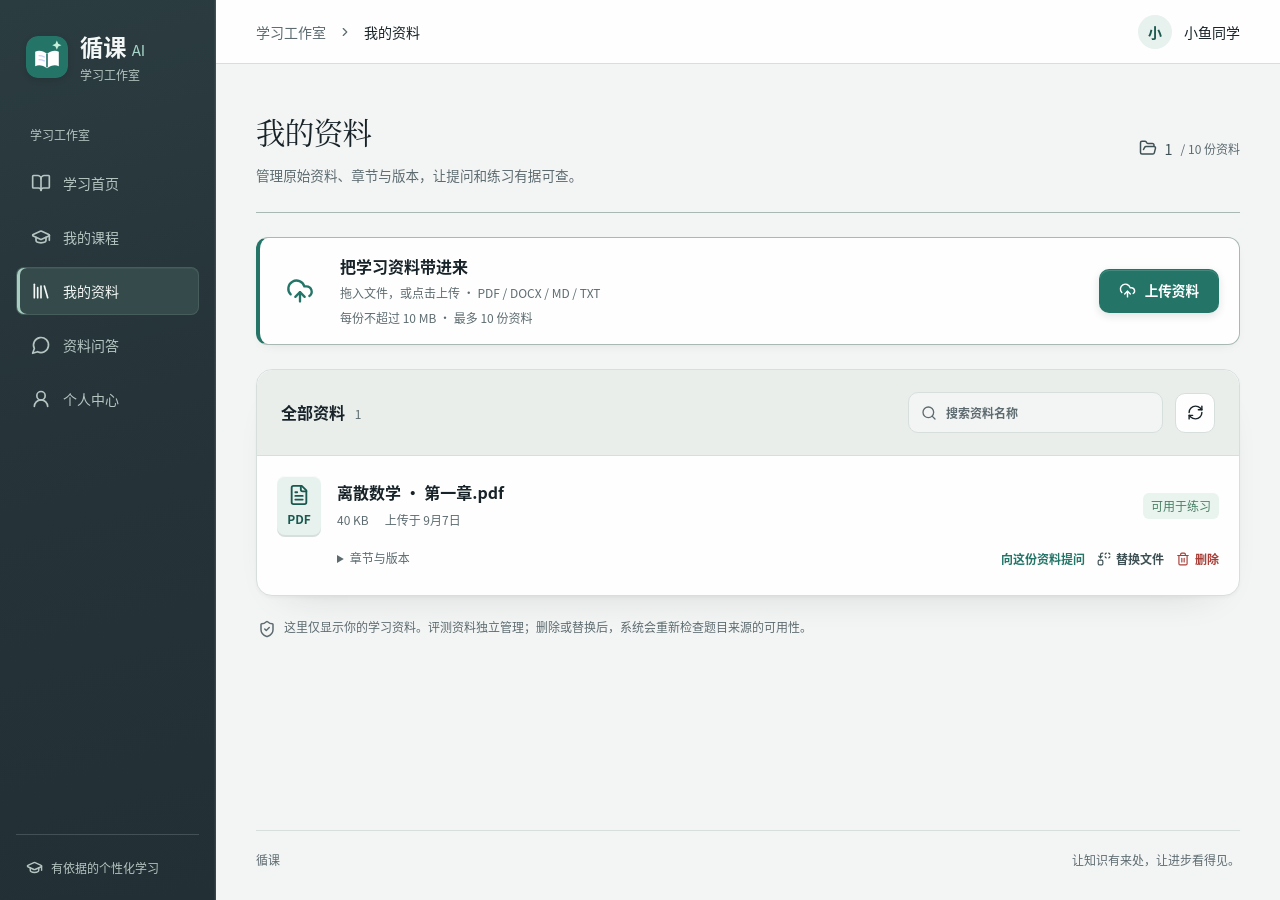
knowledge QA › opens ready document entry, keeps its selection, and creates a chapter-scoped session
Click the link "向这份资料提问".
click(1043, 558)  # box x1=1001 y1=550 x2=1085 y2=567
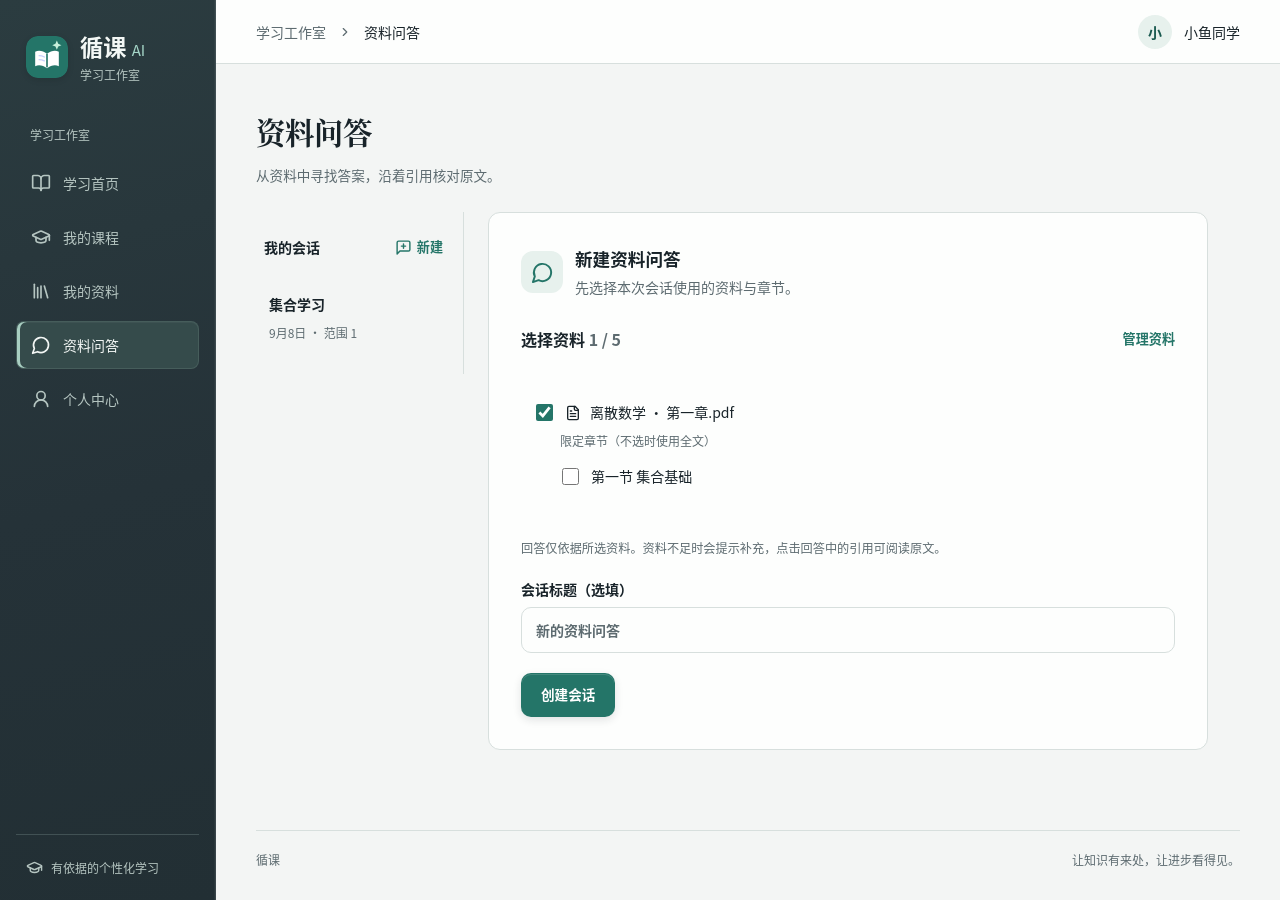
Check: the heading "新建资料问答" is shown, box x1=575 y1=246 x2=681 y2=271
Check: the checkbox labelled "离散数学 · 第一章.pdf" is checked, box x1=536 y1=404 x2=553 y2=421
Click the checkbox labelled "第一节 集合基础".
click(570, 477)  # box x1=562 y1=468 x2=579 y2=485
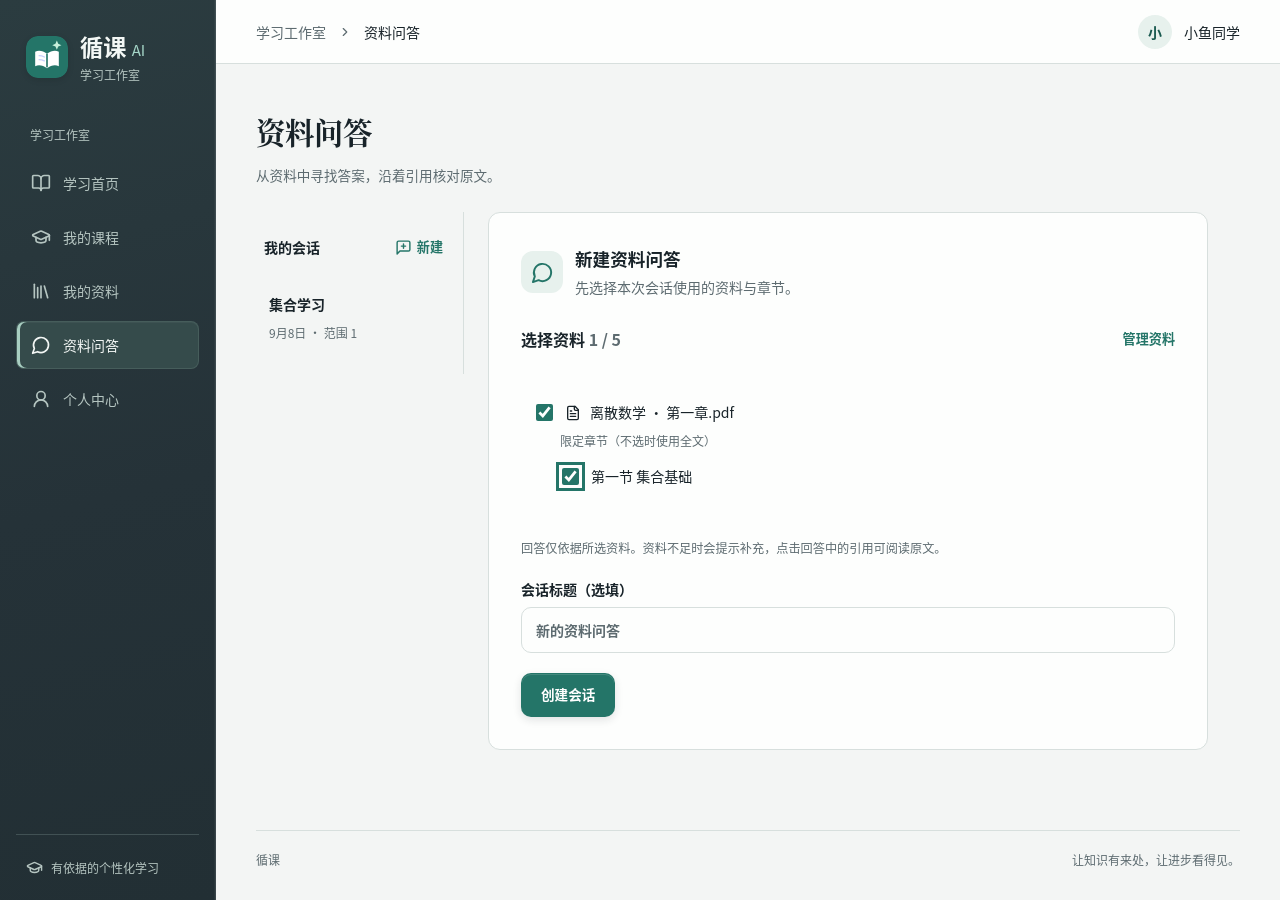
Type "集合学习" into the field labelled "会话标题（选填）".
click(848, 630); type("集合学习")  # box x1=521 y1=607 x2=1175 y2=653
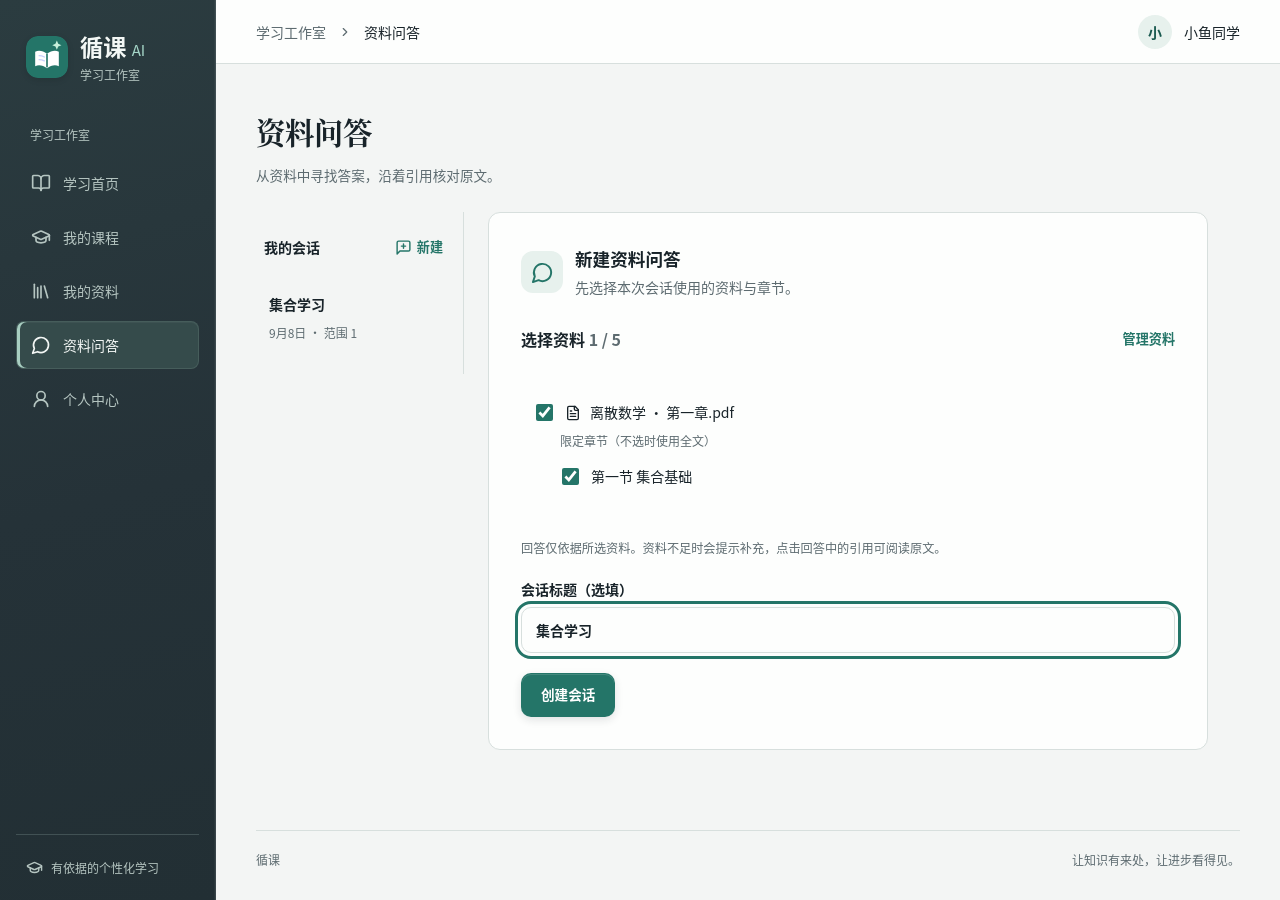
Click the button "创建会话".
click(568, 695)  # box x1=521 y1=673 x2=615 y2=717
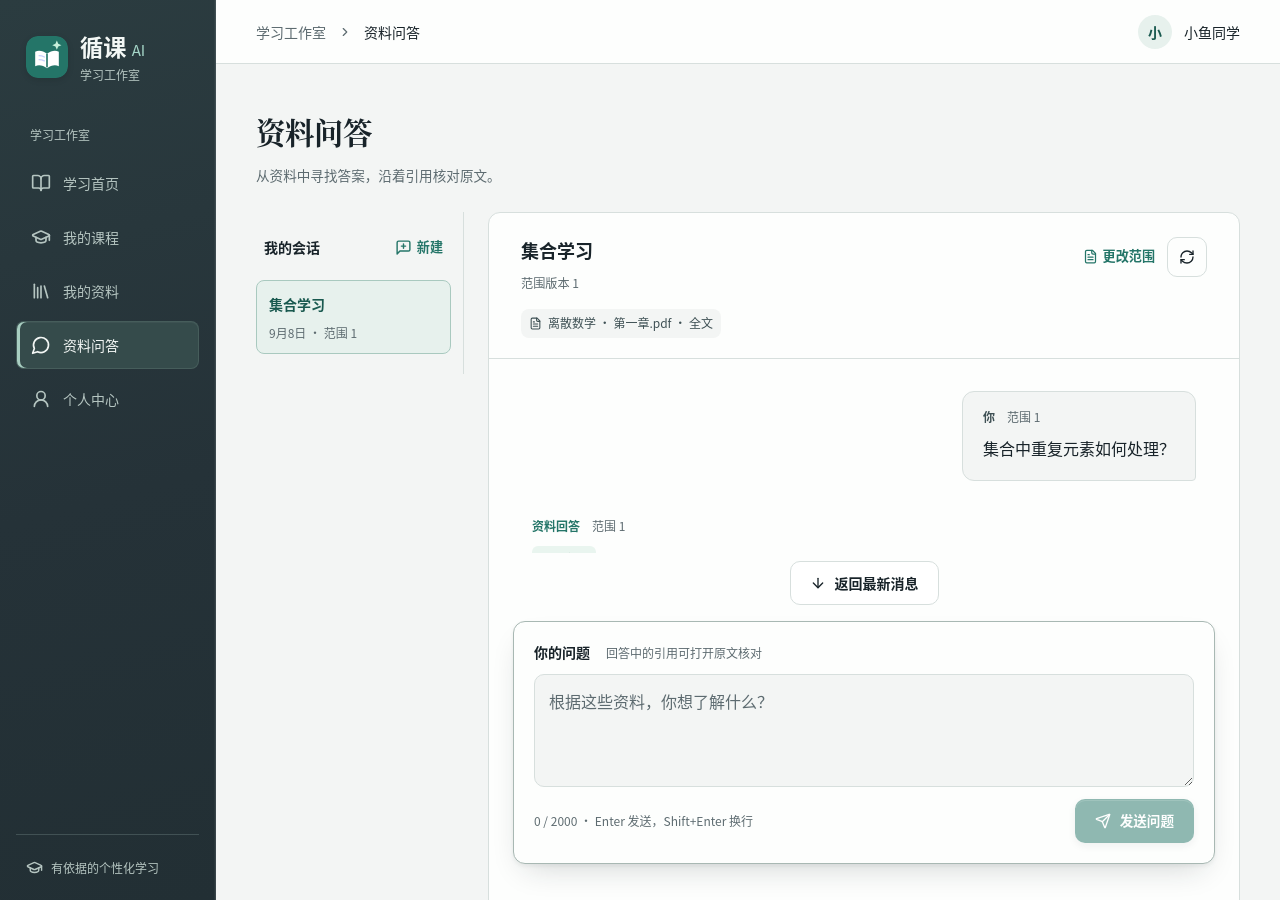
Check: the heading "集合学习" is shown, box x1=521 y1=237 x2=593 y2=264
